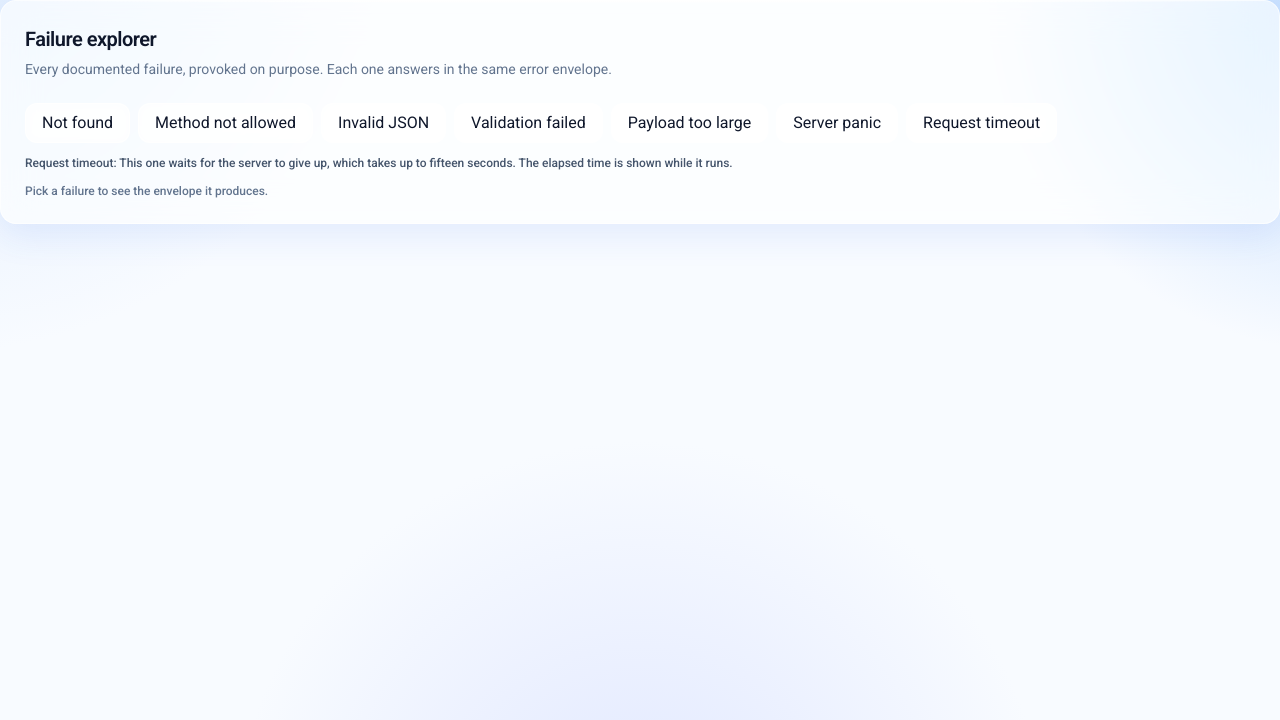
Scenario: FailureExplorerPanel › explains a 404 on a debug route as disabled rather than missing
The image size is (1280, 720).
Step 1. Click the button "Server panic" → (837, 123), box [776,103,898,143]
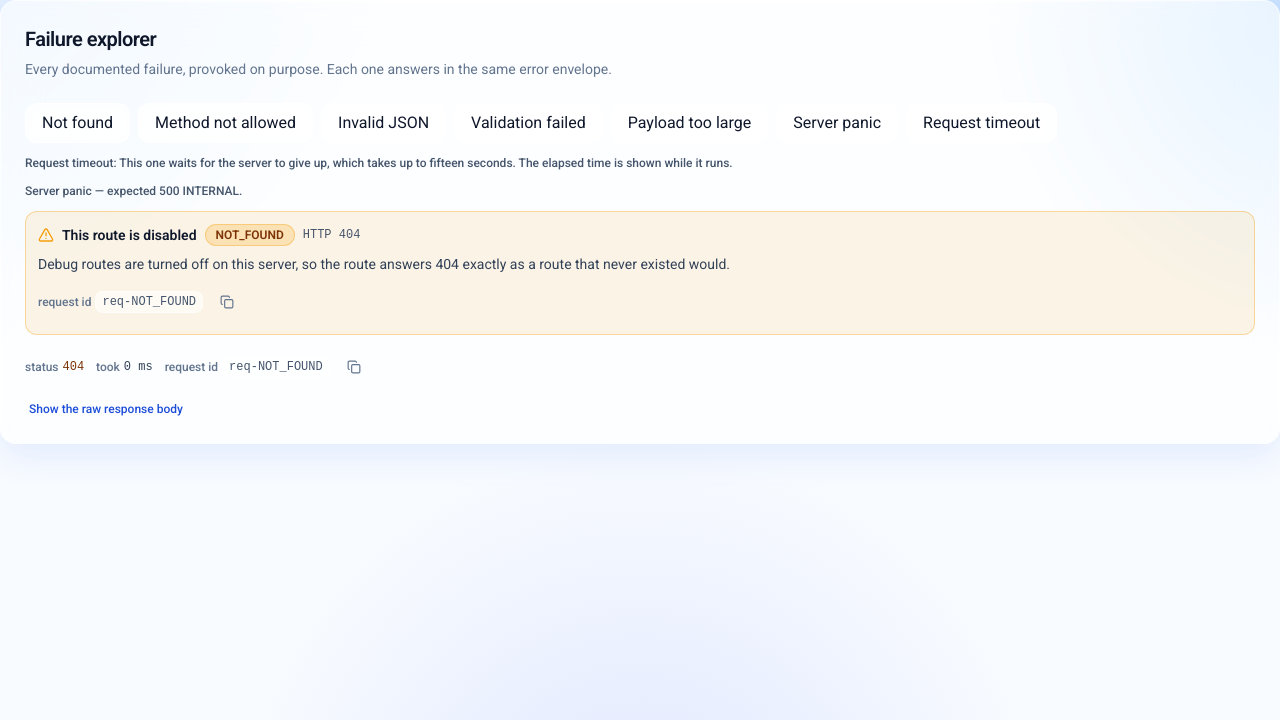
Expected: the text "This route is disabled" is shown, [62,225,196,245]
Expected: the message shows "Debug routes are turned off", [38,256,730,272]
